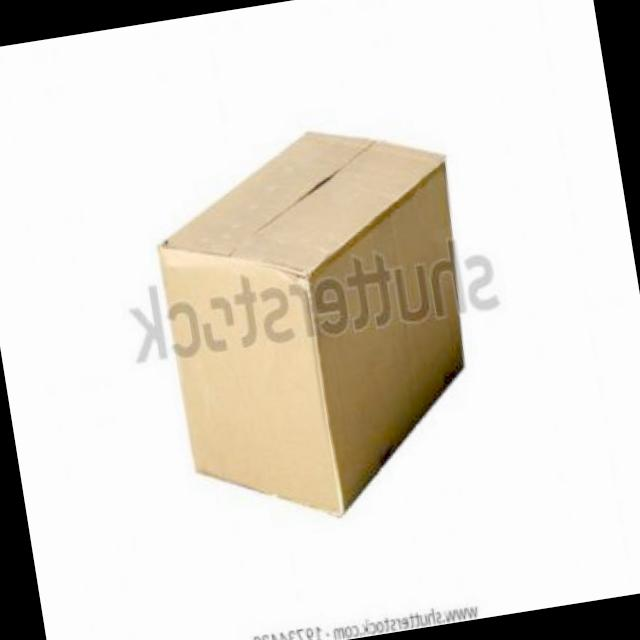box: (111, 82, 528, 556)
